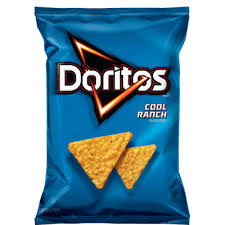Doritos: (32, 6, 201, 223)
